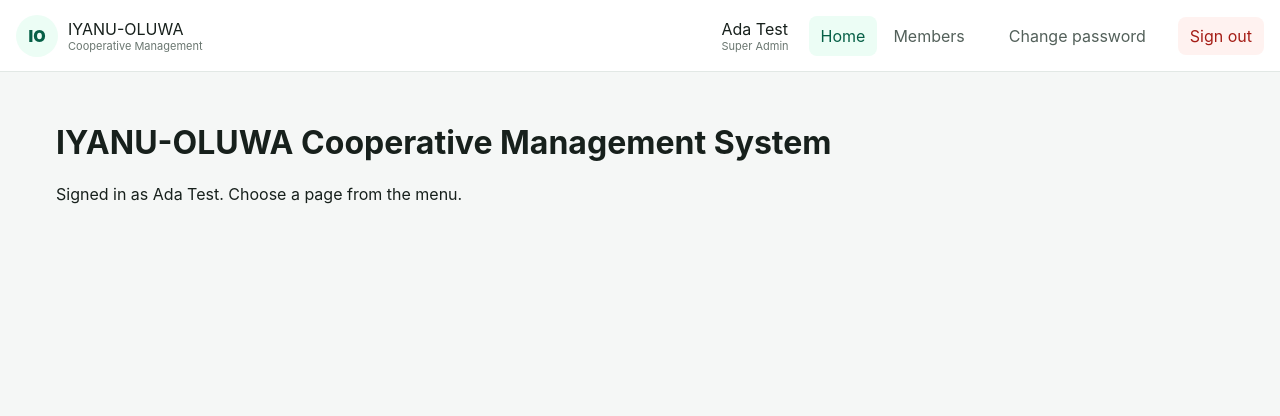
it: member detail (jsdom) › shows only the message when the member cannot be read
What coordinates should you click on to do the following:
click the button "Members"
I would click on:
 (929, 36)
Its box is [881,16,977,56].
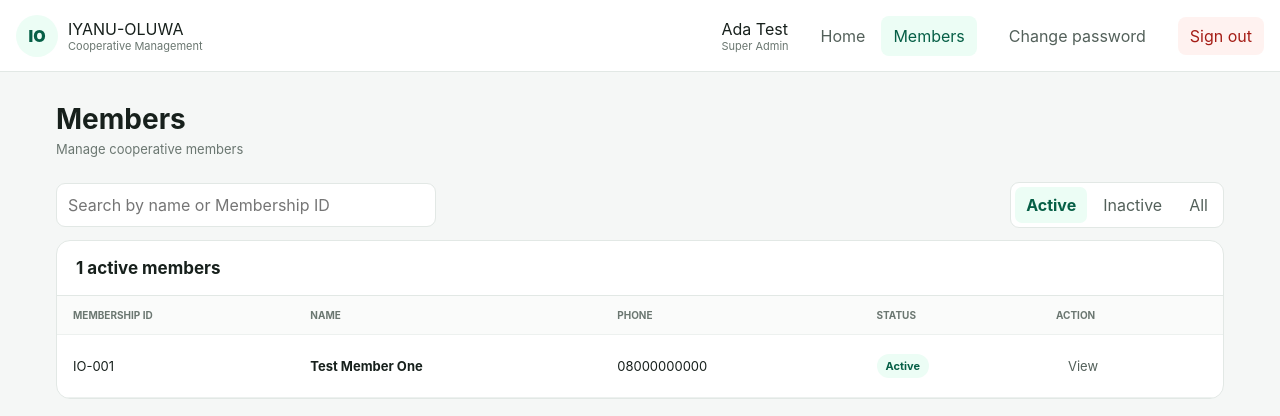
What coordinates should you click on to do the following:
click the button with aria-label "View Test Member One"
I would click on:
 (1083, 366)
Its box is [1056,348,1110,384].
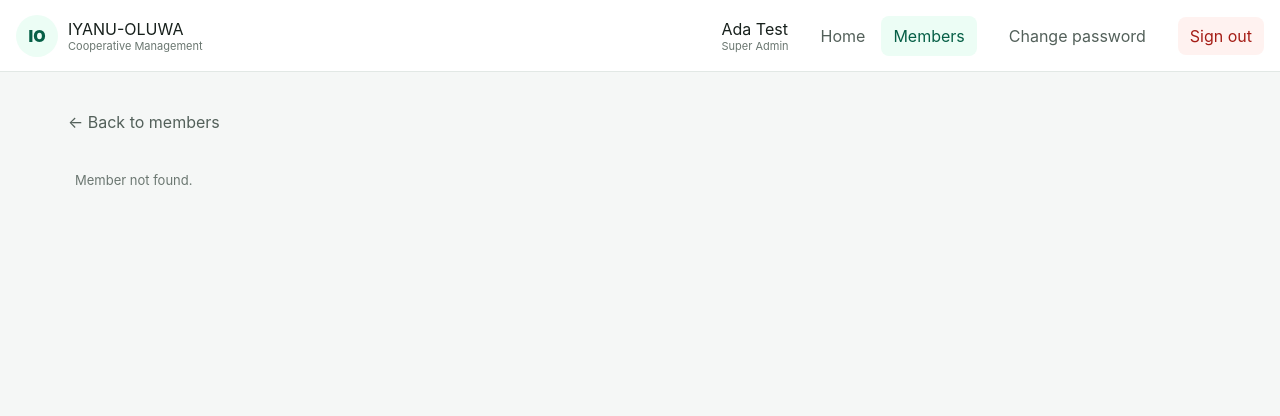
Expected: the message "Member not found." is shown, [75,172,192,188]
